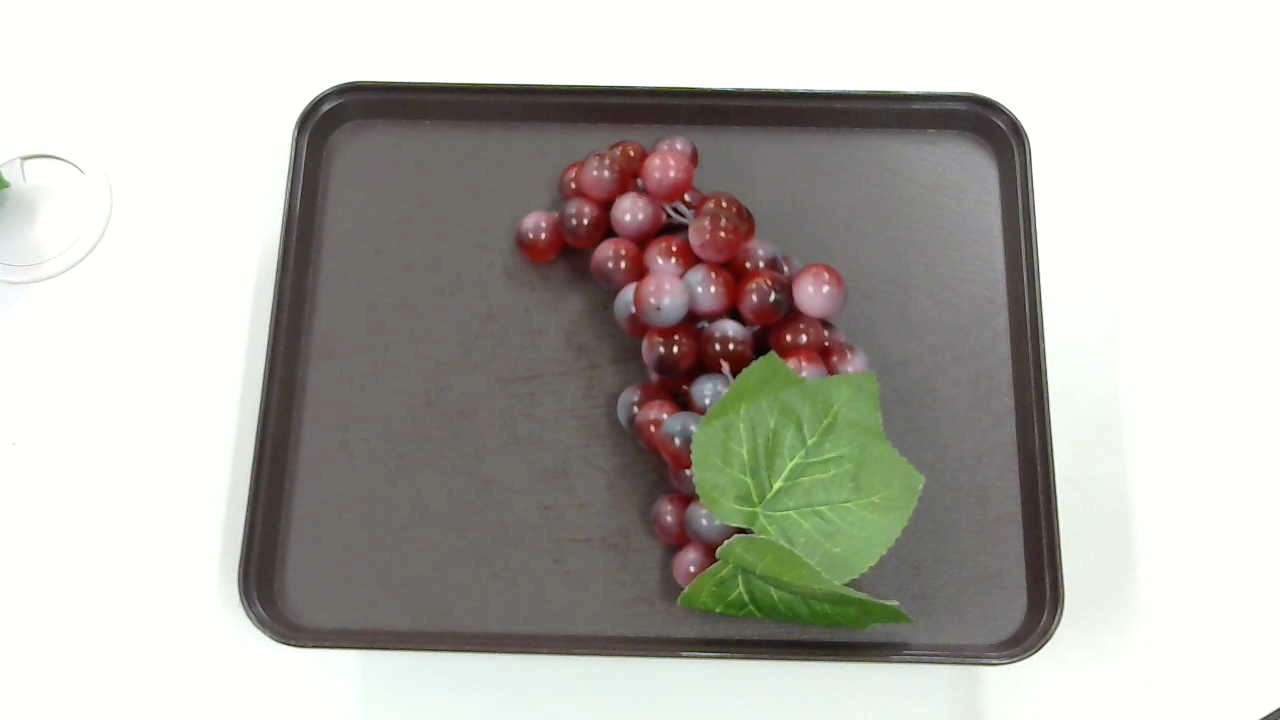grape: (512, 129, 932, 644)
